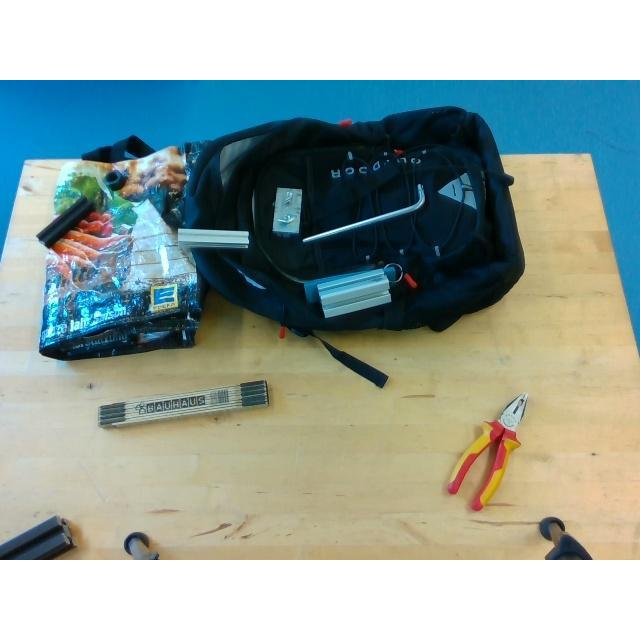AllenKey: (302, 184, 428, 244)
F20_20_B: (36, 196, 96, 248)
F20_20_G: (178, 228, 250, 250)
M20: (103, 170, 125, 190)
S40_40_G: (312, 264, 390, 316)
